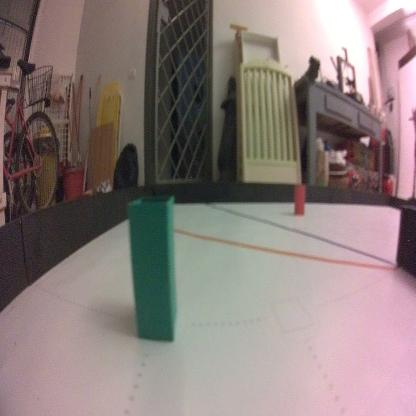green: (124, 192, 183, 348)
red: (294, 181, 306, 215)
